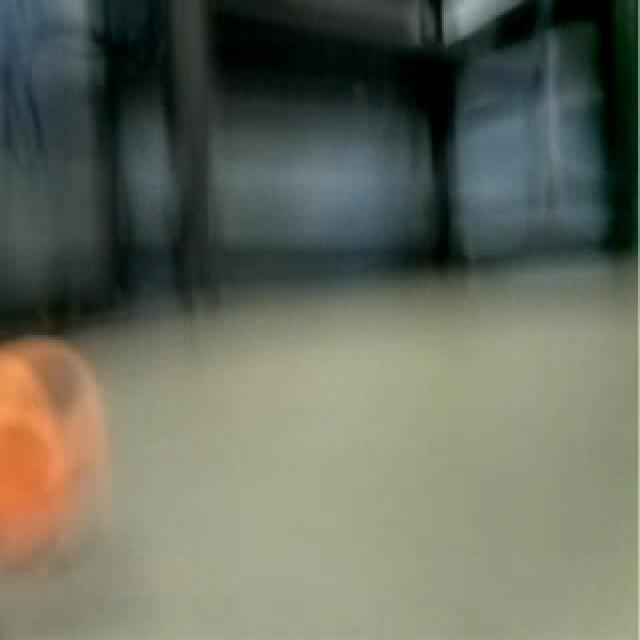oball: (1, 324, 106, 576)
